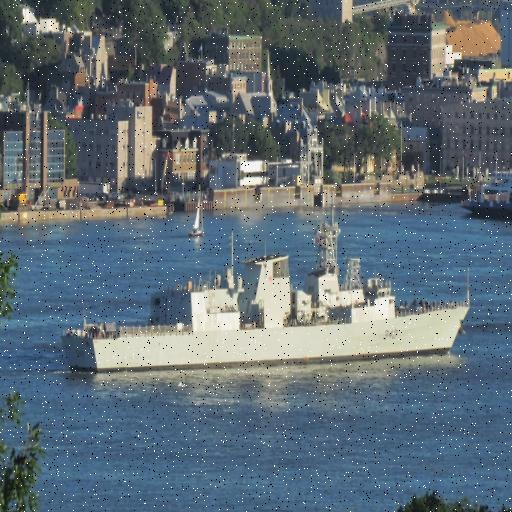Fragata: (64, 171, 477, 379)
